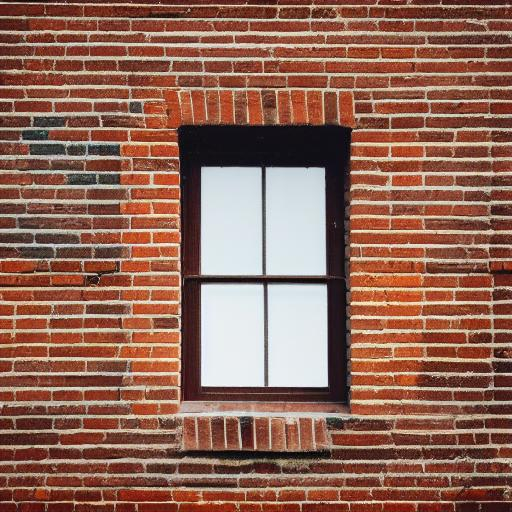Window: (167, 87, 360, 458)
